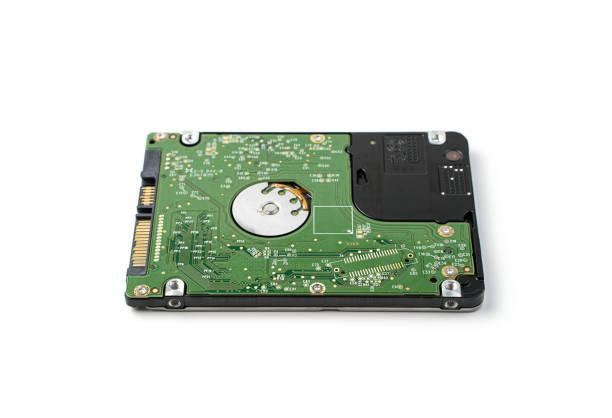internal HDD: (125, 131, 487, 315)
